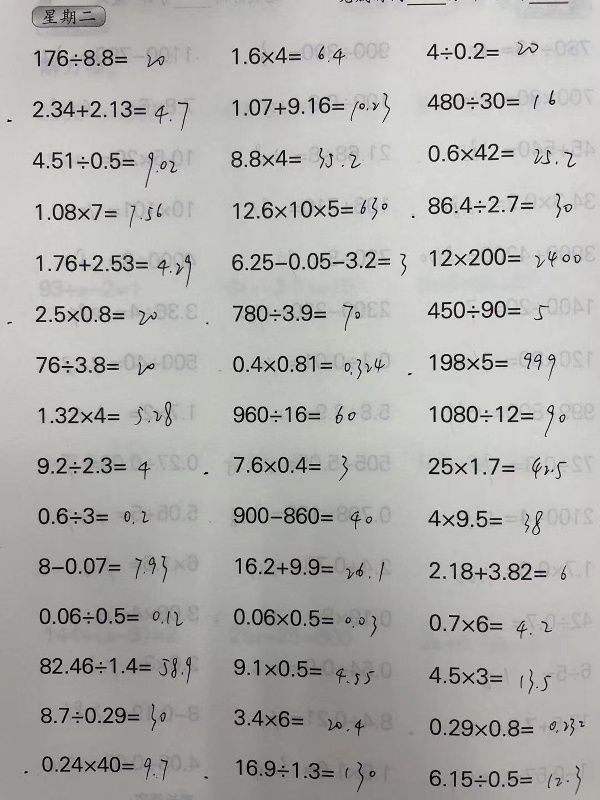equation: (31, 249, 194, 289), (27, 146, 179, 188), (229, 88, 394, 126), (28, 95, 191, 131), (425, 400, 568, 440), (226, 245, 409, 276), (230, 755, 378, 793), (35, 652, 194, 686), (423, 139, 576, 173), (229, 502, 377, 537), (229, 704, 368, 741), (229, 193, 391, 223), (424, 661, 554, 698), (228, 143, 363, 178), (34, 551, 171, 585), (36, 699, 169, 734), (20, 749, 170, 780), (227, 350, 387, 379), (228, 603, 380, 633), (425, 349, 558, 383), (424, 765, 585, 793), (423, 191, 577, 220), (424, 453, 568, 483), (424, 242, 583, 269), (229, 300, 363, 332), (28, 43, 166, 74), (423, 504, 545, 539), (424, 713, 586, 739), (230, 553, 386, 580), (228, 655, 377, 683), (32, 199, 165, 230), (229, 401, 360, 432), (34, 402, 176, 430), (421, 34, 543, 65), (34, 602, 185, 627), (424, 557, 569, 583), (32, 301, 160, 330), (230, 452, 353, 482), (226, 41, 348, 71), (32, 352, 156, 381), (424, 611, 555, 638), (422, 87, 558, 113), (422, 295, 551, 322), (32, 451, 152, 479), (34, 503, 154, 529)
